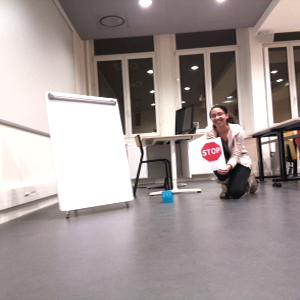stop: (201, 141, 222, 163)
